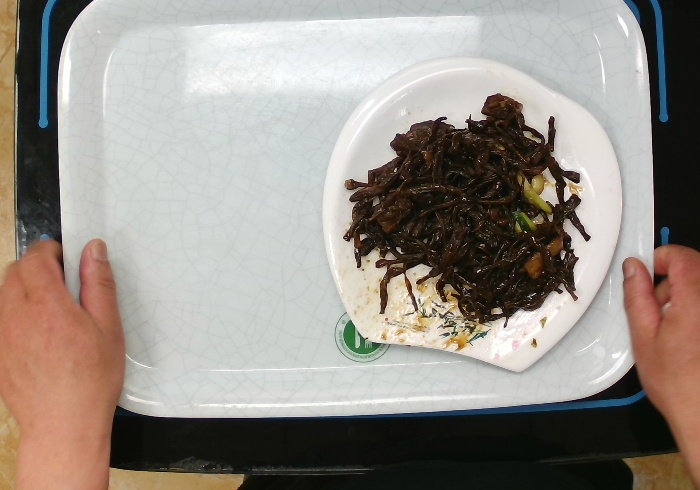JYsf-Mian_Pan: (317, 58, 624, 372)
